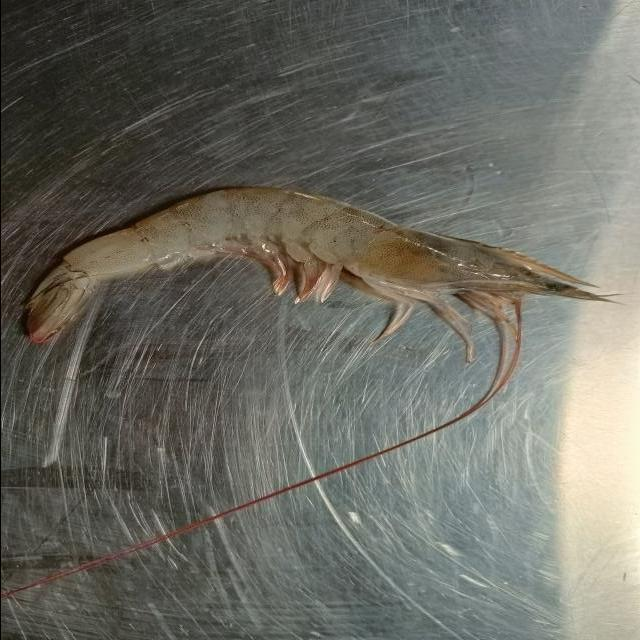shrimp: (21, 186, 615, 346)
